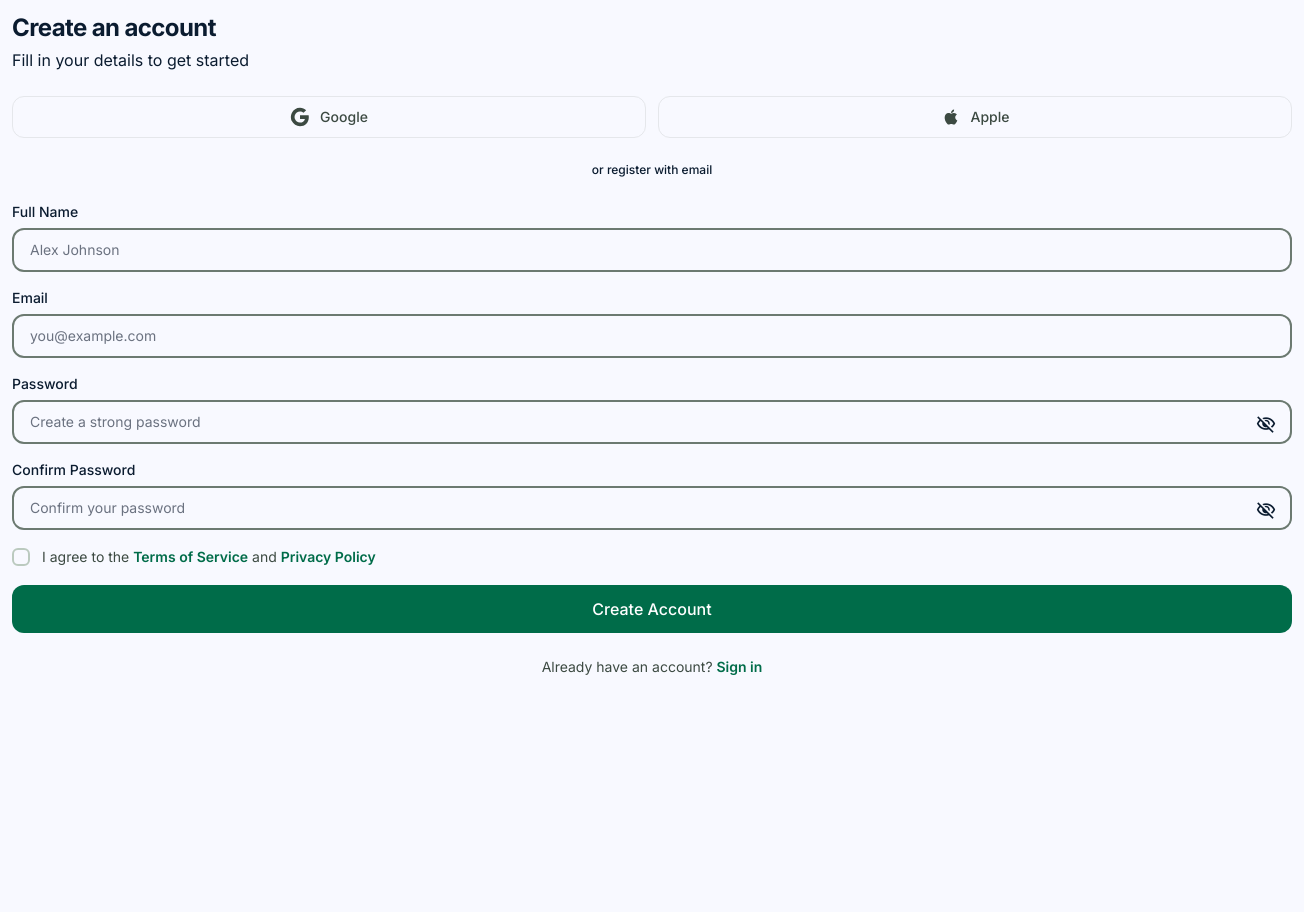
it: RegisterPage › shows validation errors when submitting empty form
Click the button "Create Account".
click(652, 609)  # box [12,585,1292,633]
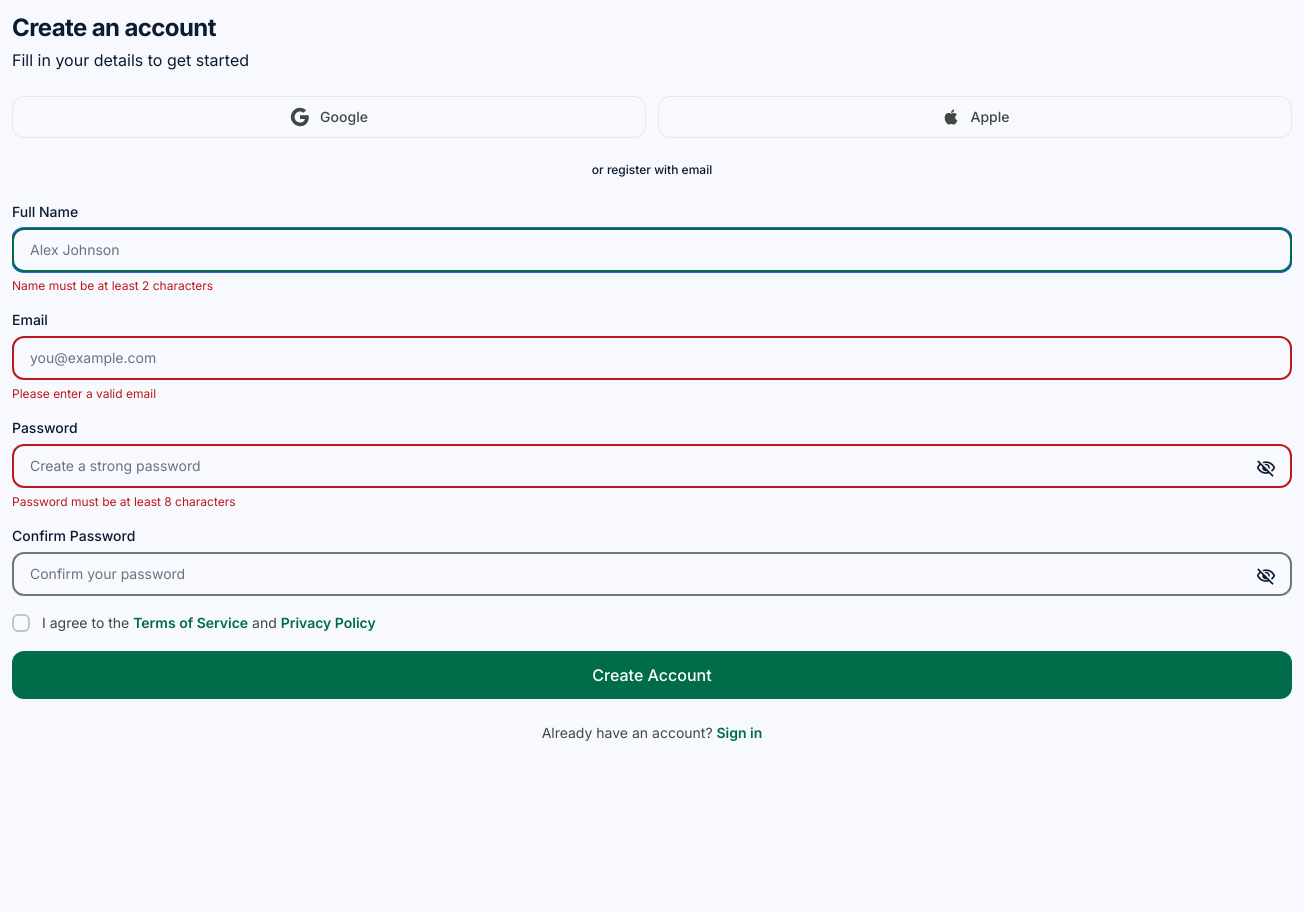
Expected: the text "Name must be at least 2 characters" is shown, [12,278,213,293]
Expected: the text "Please enter a valid email" is shown, [12,386,156,401]
Expected: the text "Password must be at least 8 characters" is shown, [12,494,236,509]
